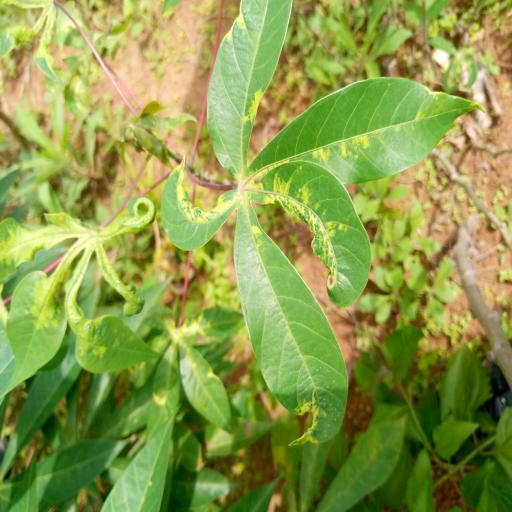Cassava_Mosaic: (154, 0, 480, 452)
